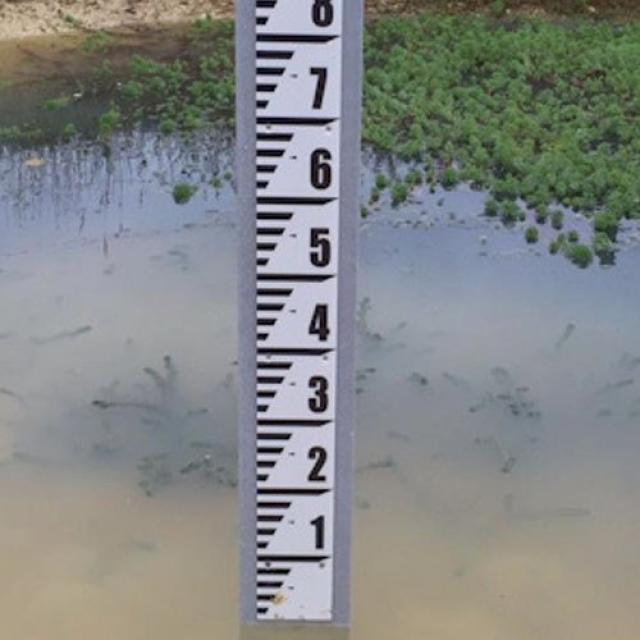staff: (251, 1, 341, 618)
